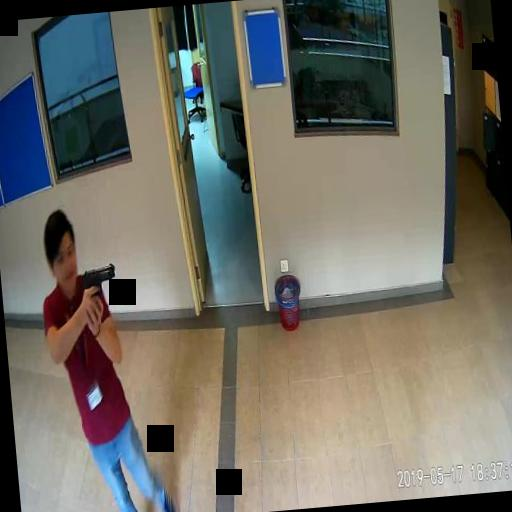Handgun: (80, 262, 118, 320)
